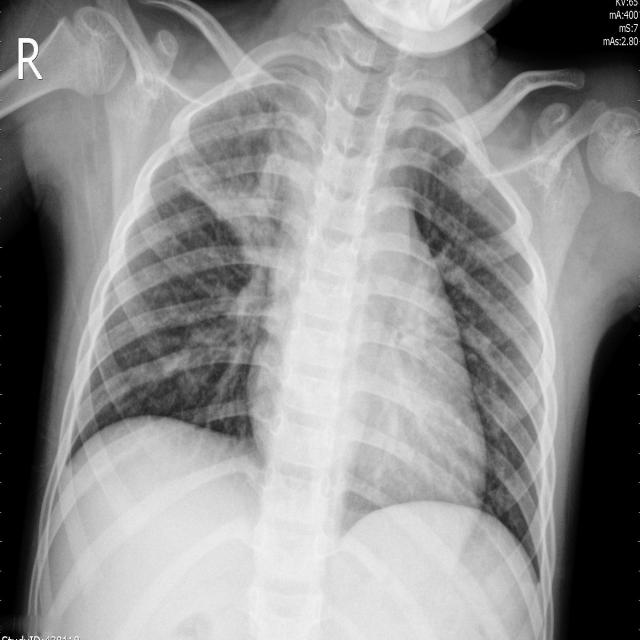low-pneumonia: (169, 270, 268, 425), (163, 144, 295, 260), (409, 85, 506, 217), (239, 54, 325, 163)
